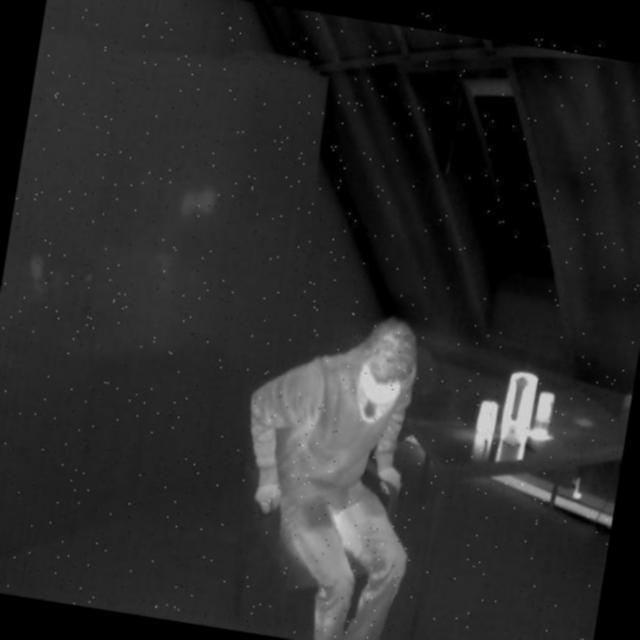person: (213, 292, 451, 640)
